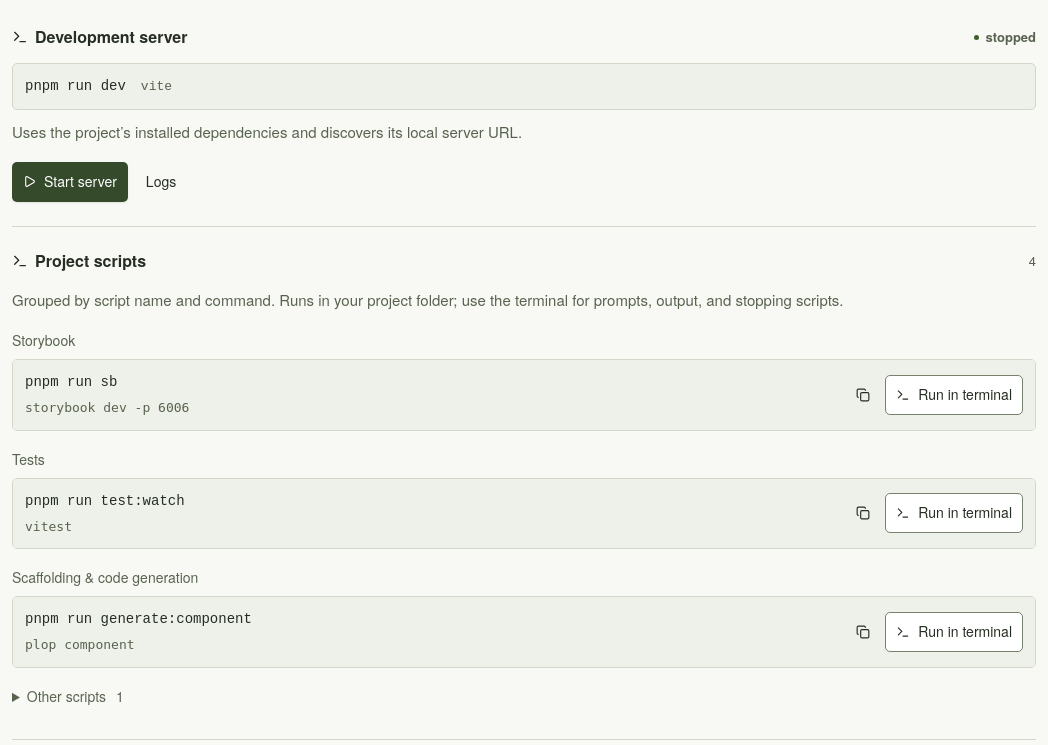
it: project script actions › groups detected tasks, keeps the primary dev action, and launches the selected variant
This screenshot has width=1048, height=745.
Expected: the button "Start server" is shown, [12,162,128,202]
Expected: the heading "Storybook" is shown, [12,330,75,350]
Click the button with aria-label "Run generate:component in terminal": [954, 632] box [885,612,1023,652]
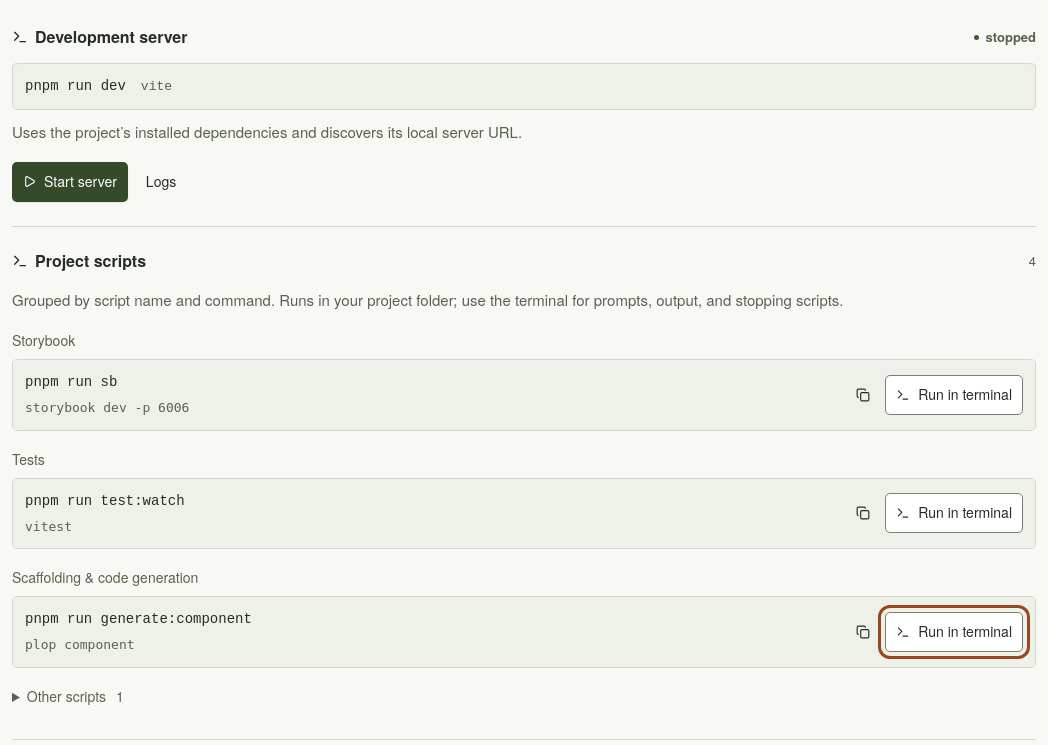
Click the heading "Other scripts 1": [75, 696] box [27,686,124,706]
(page scrolled)
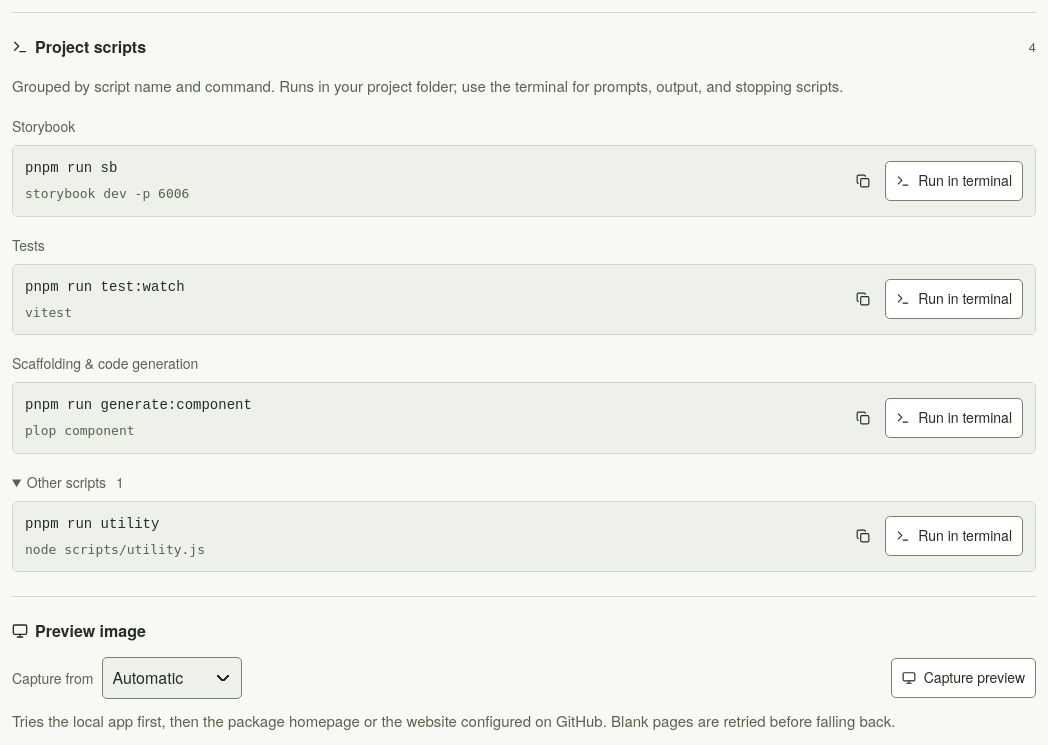
Now the button with aria-label "Run utility in terminal" is shown, box [885,516,1023,556]
